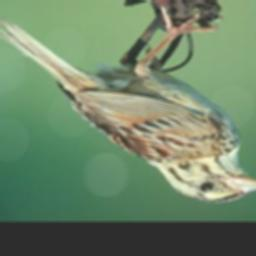Sparrow: (0, 5, 256, 205)
